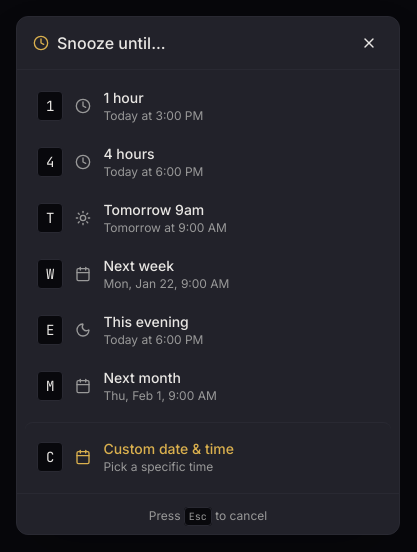
Test: TriageSnoozePicker › custom date picker › shows custom date picker when Custom option is clicked
Click the text "Custom date & time" at {"x": 169, "y": 448}, box [103,440,234,456]
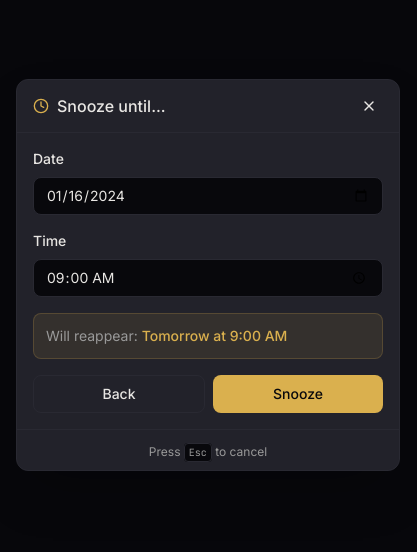
expect the date field is shown: met, box [33,177,383,215]
expect the time field is shown: met, box [33,259,383,297]
